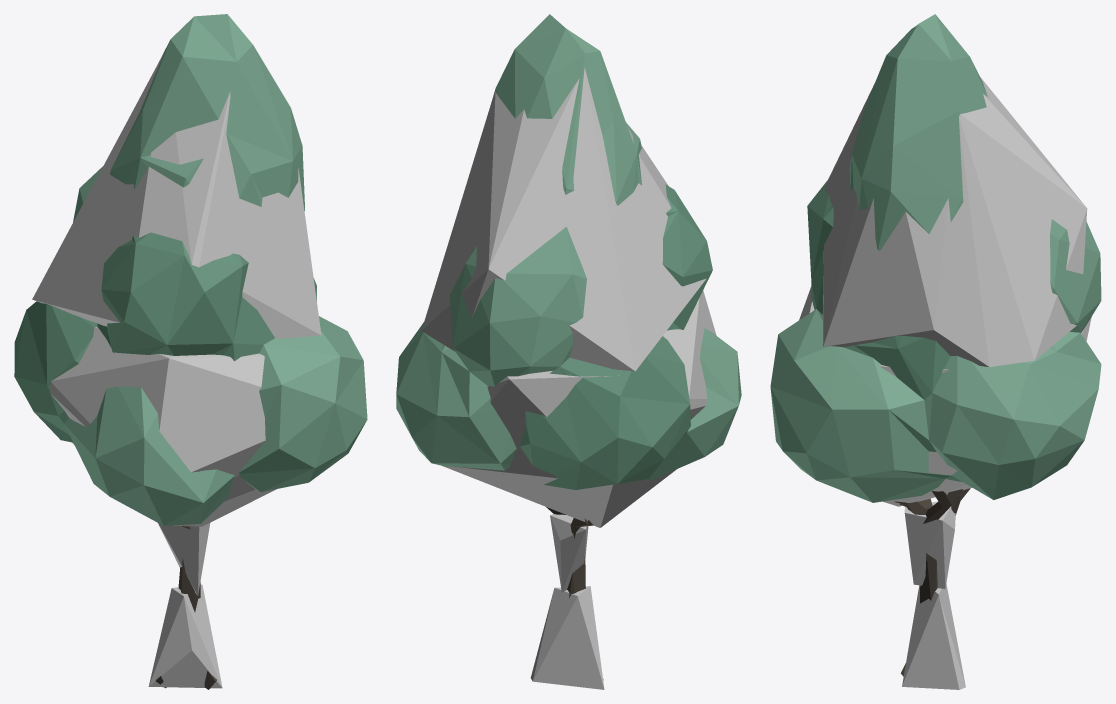
The model's file is SM_Env_Tree_03.fbx.
The picture shows the model from 3 angles, left to right: view 1: azimuth 30°, elevation 25°; view 2: azimuth 150°, elevation 25°; view 3: azimuth 270°, elevation 25°; orthographic projection. The views are drawn at different scales.
Visible parts, largest first — view 1: SM_Env_Tree_03, SM_Env_Tree_03_ConvexHulls; view 2: SM_Env_Tree_03, SM_Env_Tree_03_ConvexHulls; view 3: SM_Env_Tree_03, SM_Env_Tree_03_ConvexHulls.
Boxes of the visible parts, x1,y1,x2,y2 form: SM_Env_Tree_03: (14,14,367,689); SM_Env_Tree_03_ConvexHulls: (32,51,321,688); SM_Env_Tree_03: (396,14,741,679); SM_Env_Tree_03_ConvexHulls: (421,68,716,689); SM_Env_Tree_03: (770,14,1101,676); SM_Env_Tree_03_ConvexHulls: (799,77,1091,689).
Bounding box in the file's own units: 472 × 500 × 1122.
Materials: 2 (1 with a texture image).
